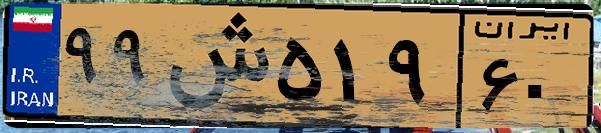0: (525, 38, 570, 115)
1: (330, 28, 385, 110)
5: (270, 28, 330, 110)
6: (475, 38, 525, 113)
9: (385, 28, 445, 110), (57, 26, 110, 100), (110, 28, 158, 98)
ش: (158, 12, 270, 120)
